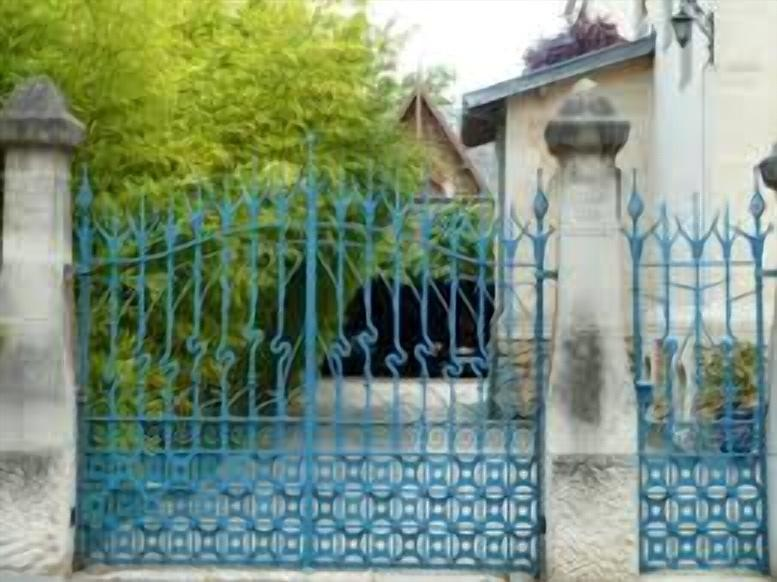Gate: (66, 137, 556, 573), (621, 163, 777, 576)
